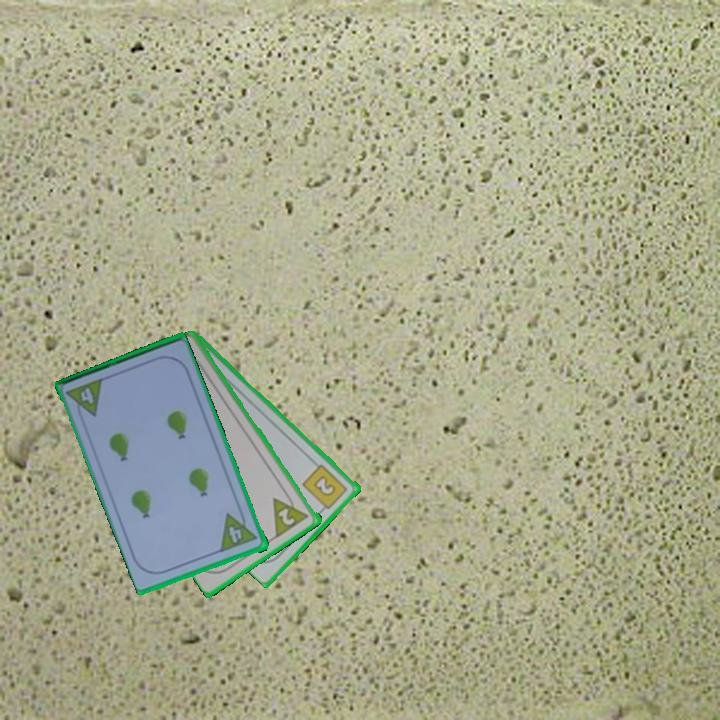2b: (299, 461, 351, 515)
2p: (269, 487, 312, 540)
4p: (217, 506, 261, 555), (63, 375, 106, 424)
